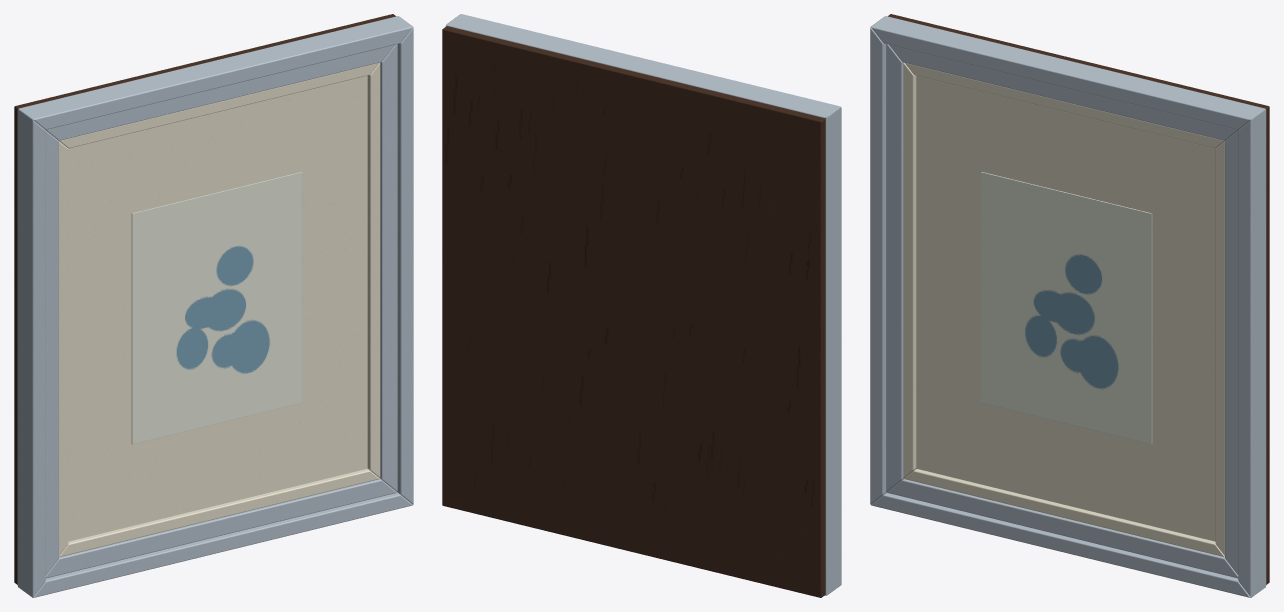
Rendered from Frame_23_FUR06_A3s.fbx.
The picture shows the model from 3 angles, left to right: view 1: azimuth 30°, elevation 25°; view 2: azimuth 150°, elevation 25°; view 3: azimuth 330°, elevation 25°; orthographic projection.
Parts seen in each view (by area): view 1: Frame_23; view 2: Frame_23; view 3: Frame_23.
Part boxes in pixels (left/top/right/bottom): Frame_23: left=14, top=14, right=413, bottom=597; Frame_23: left=442, top=14, right=841, bottom=597; Frame_23: left=870, top=14, right=1269, bottom=597.
Bounding box in the file's own units: 0.4 × 0.48 × 0.036.
